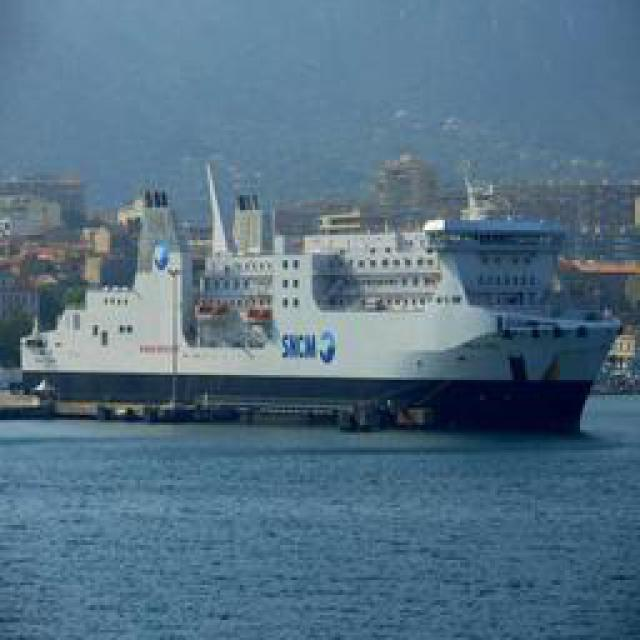Ship: (10, 160, 613, 428)
